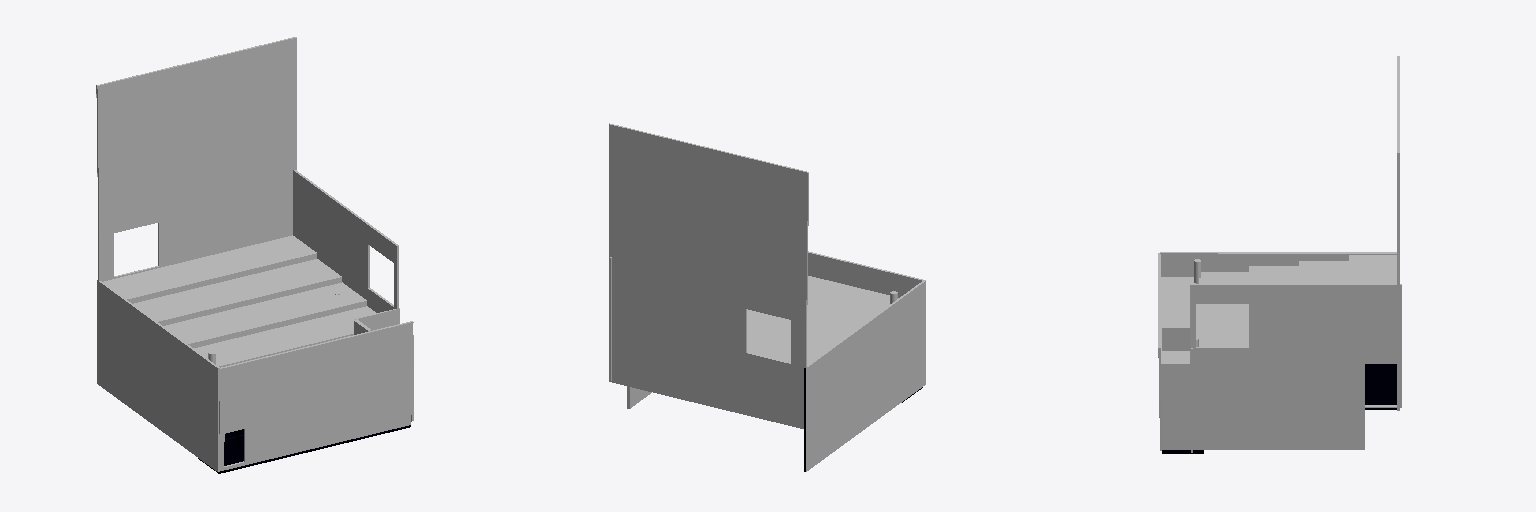
Rendered from amphi.obj.
The picture shows the model from 3 angles: view 1: azimuth 30°, elevation 25°; view 2: azimuth 150°, elevation 25°; view 3: azimuth 270°, elevation 25°; orthographic projection.
Visible parts, largest first — view 1: tables_amphi; view 2: tables_amphi; view 3: tables_amphi.
Boxes of the visible parts, x1,y1,x2,y2 form: tables_amphi: [96, 37, 413, 473]; tables_amphi: [609, 123, 925, 471]; tables_amphi: [1158, 56, 1401, 453].
Size of the model in its own units: 30.4 by 44.02 by 32.08.